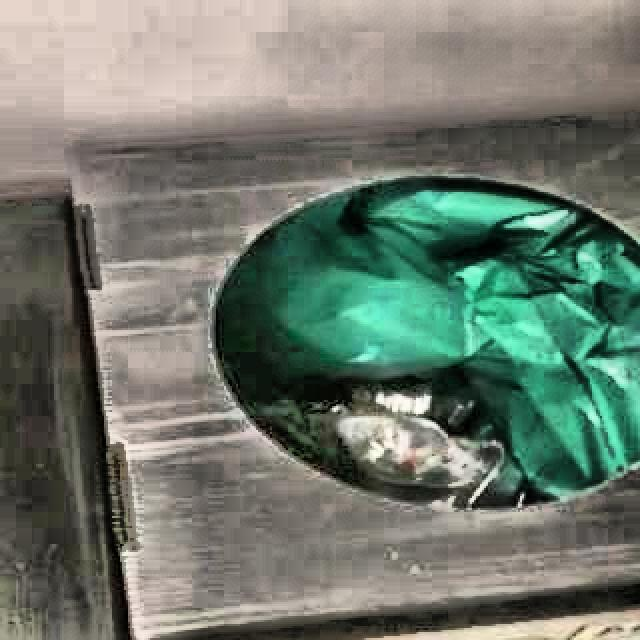metal: (331, 380, 525, 509)
